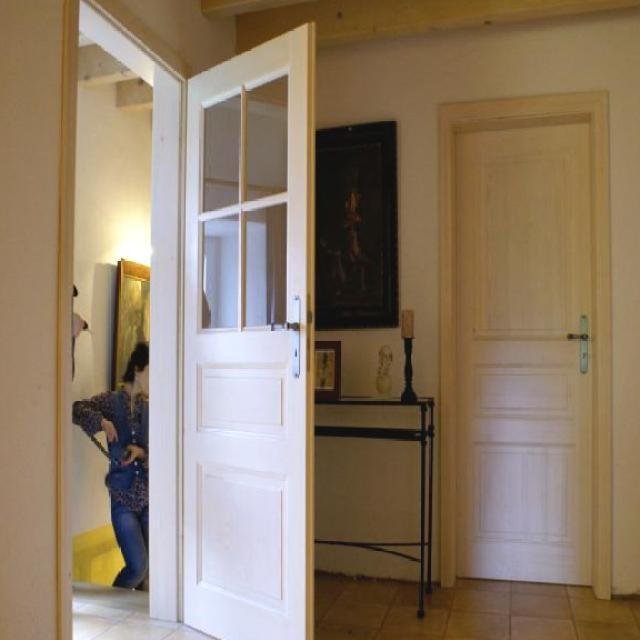door: (438, 90, 611, 594), (178, 20, 315, 638)
